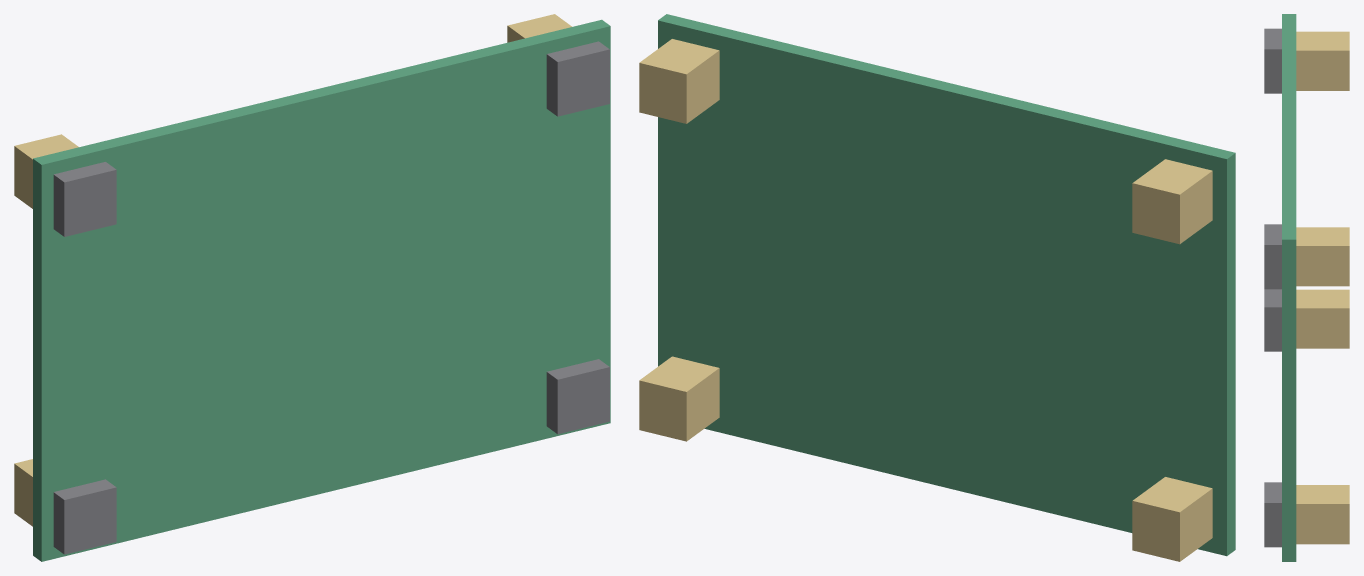
The model's file is demo.glb.
3 views of the same model, side by side, from view 1: azimuth 30°, elevation 25°; view 2: azimuth 150°, elevation 25°; view 3: azimuth 270°, elevation 25° (orthographic). The views are drawn at different scales.
Visible parts, largest first — view 1: board, screw_3, screw_4, screw_1, screw_2, standoff_3, standoff_1, standoff_4; view 2: board, standoff_3, standoff_1, standoff_2, standoff_4; view 3: board, standoff_1, standoff_2, standoff_3, standoff_4, screw_2, screw_3, screw_4, screw_1.
Boxes of the visible parts, bbox=[...] form: board: bbox=[33, 19, 610, 561]; screw_3: bbox=[53, 162, 116, 236]; screw_4: bbox=[546, 41, 609, 116]; screw_1: bbox=[53, 479, 116, 554]; screw_2: bbox=[546, 359, 609, 434]; standoff_3: bbox=[14, 134, 78, 208]; standoff_1: bbox=[14, 459, 32, 526]; standoff_4: bbox=[507, 14, 571, 42]; board: bbox=[658, 14, 1235, 556]; standoff_3: bbox=[1132, 159, 1212, 244]; standoff_1: bbox=[1132, 477, 1212, 561]; standoff_2: bbox=[639, 356, 719, 441]; standoff_4: bbox=[639, 39, 719, 123]; board: bbox=[1282, 14, 1296, 561]; standoff_1: bbox=[1296, 289, 1349, 348]; standoff_2: bbox=[1296, 485, 1349, 544]; standoff_3: bbox=[1296, 31, 1349, 90]; standoff_4: bbox=[1296, 227, 1349, 286]; screw_2: bbox=[1264, 482, 1281, 547]; screw_3: bbox=[1264, 28, 1281, 93]; screw_4: bbox=[1264, 224, 1281, 289]; screw_1: bbox=[1264, 289, 1281, 351].
Bounding box in the file's own units: 60 × 40 × 9.6.
